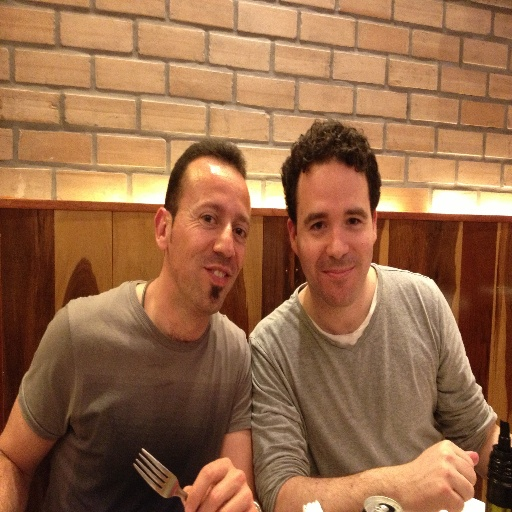hand: (391, 437, 488, 505), (180, 455, 259, 511)
